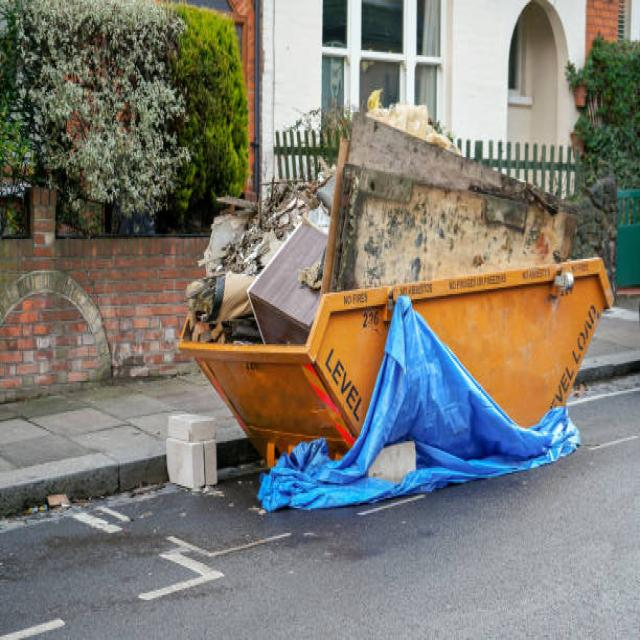cardboard: (195, 230, 294, 342)
